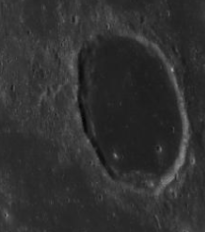crater: (48, 15, 202, 214)
